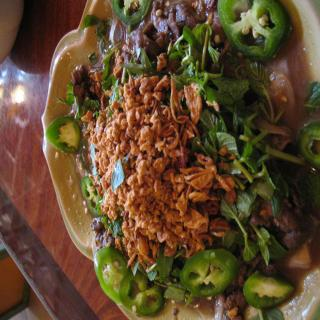Salad: (43, 0, 320, 320)
